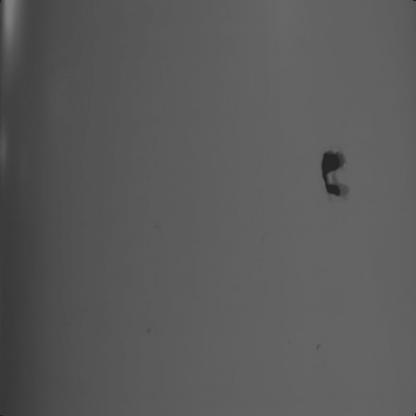kongdong: (310, 143, 356, 205)
